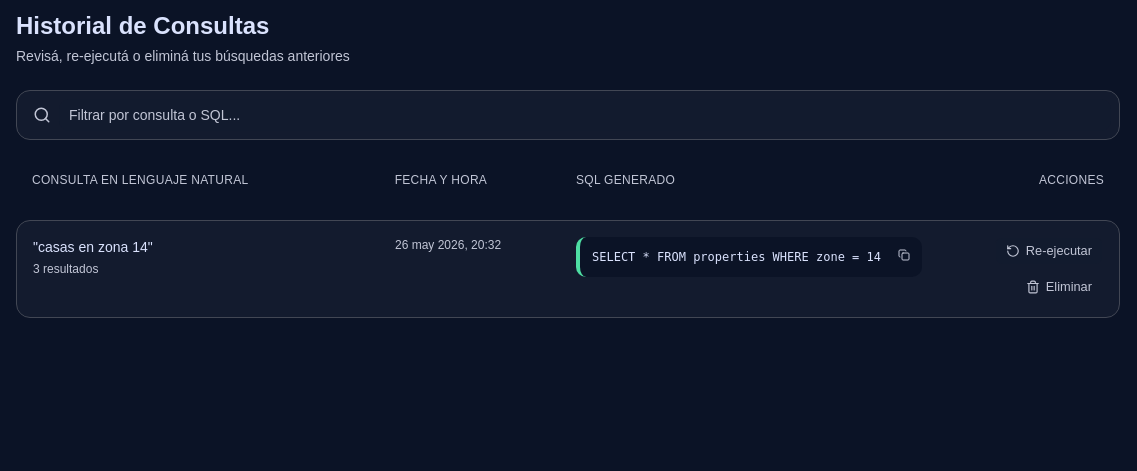
Test: QueryHistory › With history entries › removes an entry when Eliminar is clicked
Click the button "Eliminar".
click(1059, 287)  # box [1015,273,1103,301]
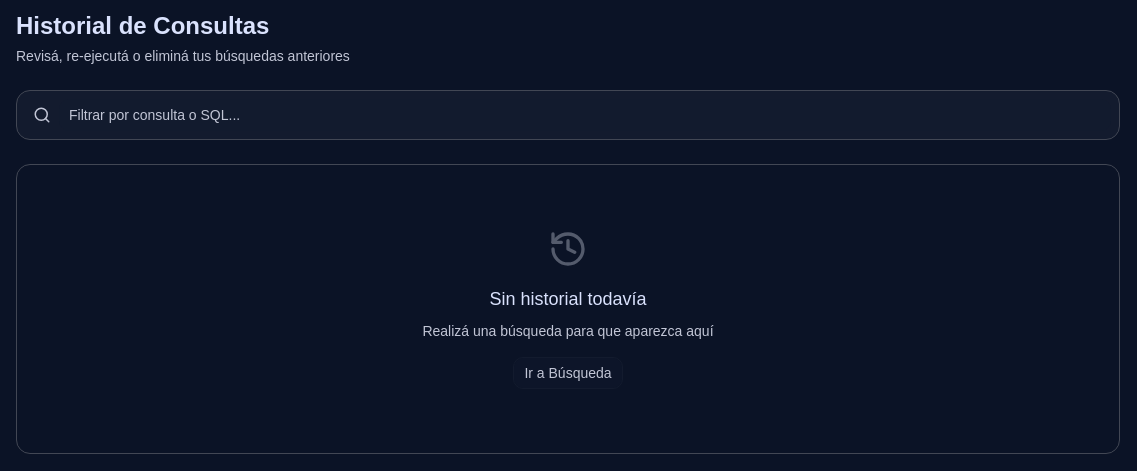
Expected: the text "\"casas en zona 14\"" is gone
